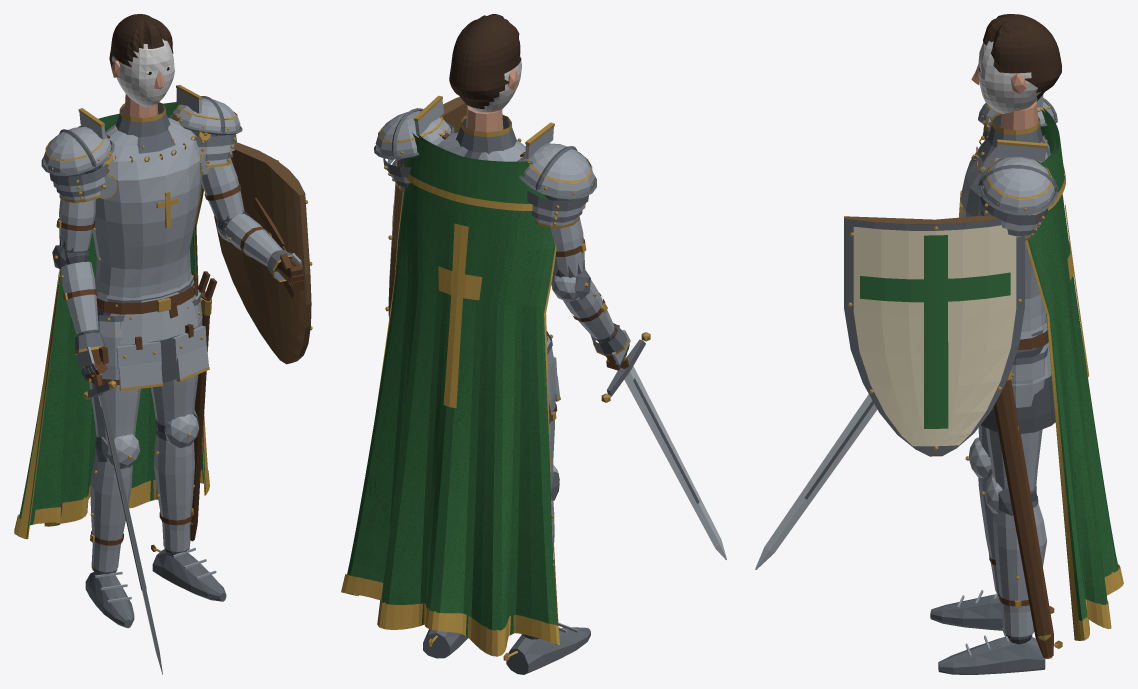
The model's file is cavaleiro.obj.
3 renders of one model, left to right at view 1: azimuth 30°, elevation 25°; view 2: azimuth 150°, elevation 25°; view 3: azimuth 270°, elevation 25°, orthographic. The views are drawn at different scales.
Visible parts, largest first — view 1: Couraca, Capa, EscudoCorpo, GrevaEsquerda, GrevaDireita, CapaForro, CoxoteDireita, Cranio, Cabelo, EspaldarCupulaDireito, CapaBarra, EscarpeEsquerda (+27 smaller); view 2: Capa, CapaForro, Cabelo, CapaBarra, CapaGola, EspaldarCupulaDireito, CapaCruzV, Lamina, EscarpeDireita, EspaldarCupulaEsquerdo, EscudoCorpo, AntebracoDireito (+12 smaller); view 3: EscudoPintura, Capa, BainhaCouro, EscudoAro, EscudoCruzV, CapaForro, Cabelo, GrevaEsquerda, EscudoCruzH, EscarpeEsquerda, EspaldarCupulaEsquerdo, CoxoteEsquerda (+15 smaller).
Boxes of the visible parts, bbox=[...] form: Couraca: bbox=[92, 117, 202, 297]; Capa: bbox=[19, 103, 205, 538]; EscudoCorpo: bbox=[214, 142, 311, 364]; GrevaEsquerda: bbox=[153, 429, 194, 551]; GrevaDireita: bbox=[90, 454, 132, 572]; CapaForro: bbox=[21, 103, 205, 533]; CoxoteDireita: bbox=[89, 321, 140, 443]; Cranio: bbox=[112, 39, 174, 107]; Cabelo: bbox=[109, 14, 173, 67]; EspaldarCupulaDireito: bbox=[43, 126, 111, 173]; CapaBarra: bbox=[14, 469, 209, 538]; EscarpeEsquerda: bbox=[152, 549, 226, 601]; Capa: bbox=[347, 135, 557, 644]; CapaForro: bbox=[348, 138, 557, 636]; Cabelo: bbox=[449, 14, 521, 108]; CapaBarra: bbox=[341, 574, 559, 656]; CapaGola: bbox=[403, 133, 547, 203]; EspaldarCupulaDireito: bbox=[521, 143, 594, 196]; CapaCruzV: bbox=[443, 223, 468, 407]; Lamina: bbox=[624, 366, 726, 559]; EscarpeDireita: bbox=[506, 627, 590, 674]; EspaldarCupulaEsquerdo: bbox=[375, 110, 451, 155]; EscudoCorpo: bbox=[388, 97, 467, 315]; AntebracoDireito: bbox=[563, 280, 614, 339]; EscudoPintura: bbox=[853, 225, 1016, 446]; Capa: bbox=[1027, 108, 1118, 639]; BainhaCouro: bbox=[994, 379, 1053, 657]; EscudoAro: bbox=[844, 215, 1024, 455]; EscudoCruzV: bbox=[924, 235, 948, 428]; CapaForro: bbox=[1029, 111, 1117, 619]; Cabelo: bbox=[983, 14, 1061, 100]; GrevaEsquerda: bbox=[992, 503, 1046, 637]; EscudoCruzH: bbox=[860, 272, 1010, 302]; EscarpeEsquerda: bbox=[938, 637, 1045, 674]; EspaldarCupulaEsquerdo: bbox=[981, 157, 1054, 212]; CoxoteEsquerda: bbox=[985, 352, 1045, 491].
Bounding box in the file's own units: 0.7109 × 1.85 × 0.9777.
